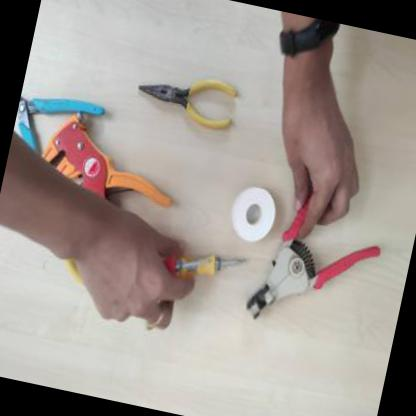Screwdriver: (166, 234, 254, 296)
